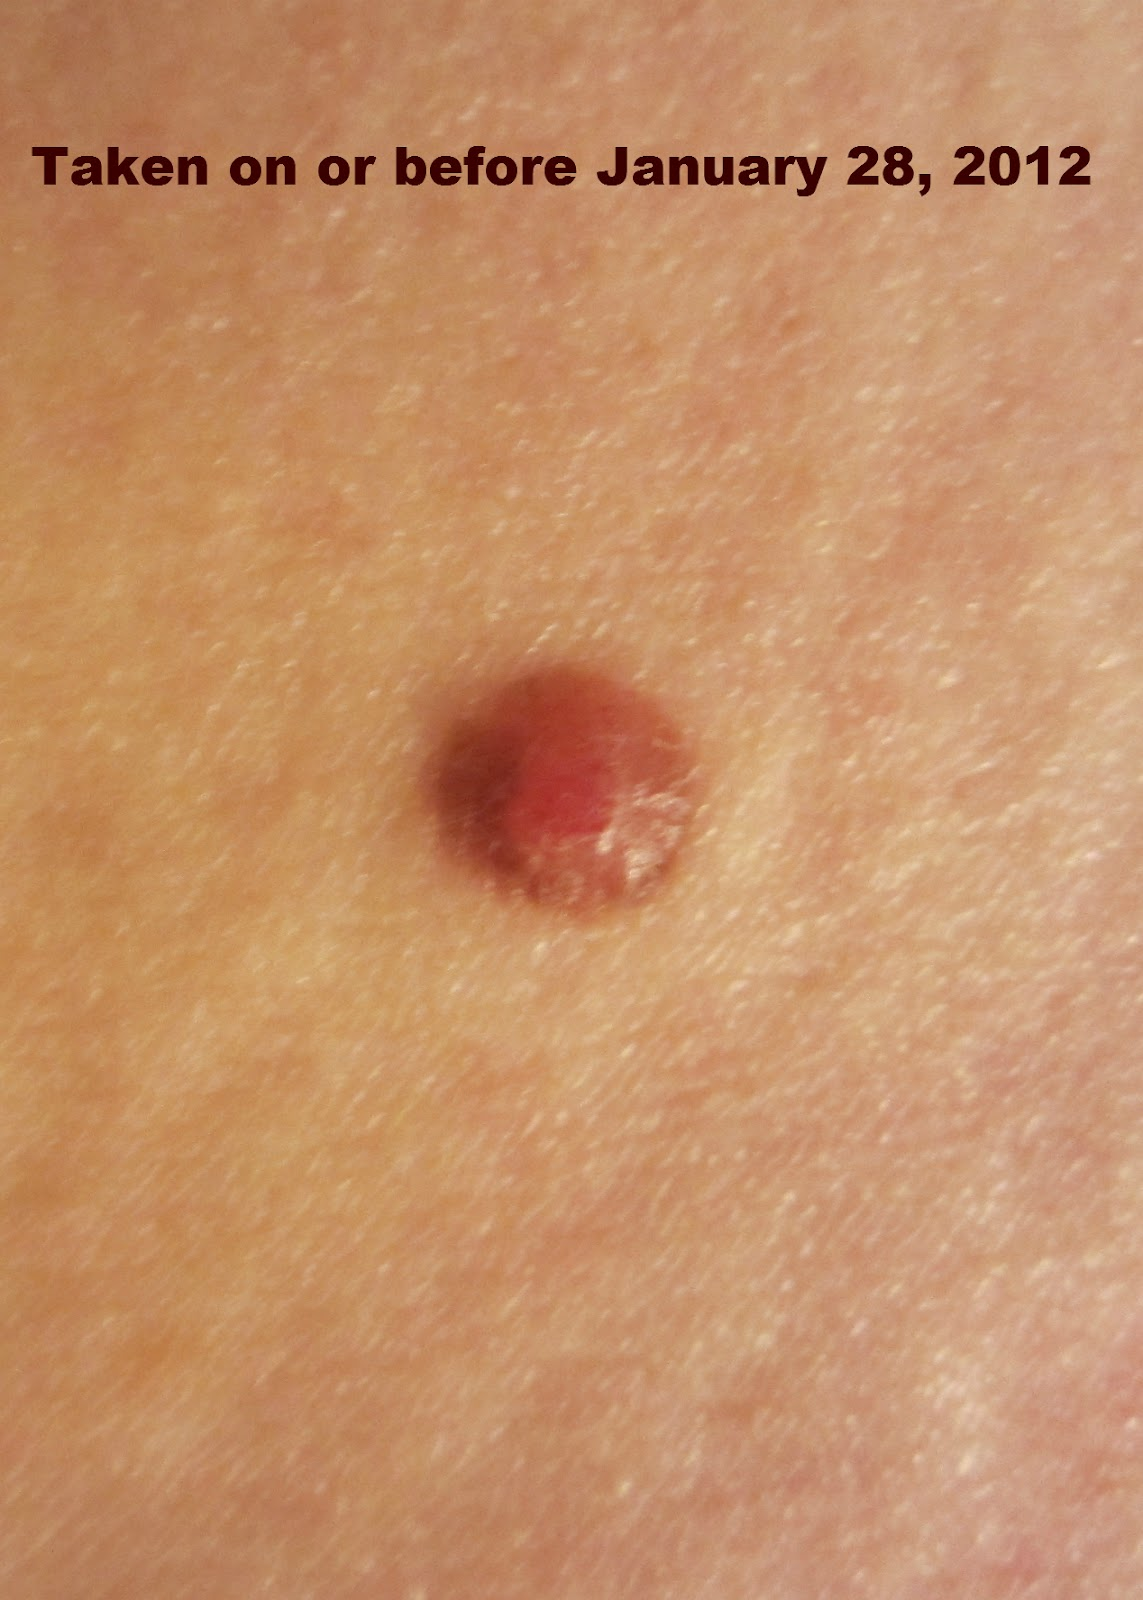Melanoma: (383, 603, 771, 968)
